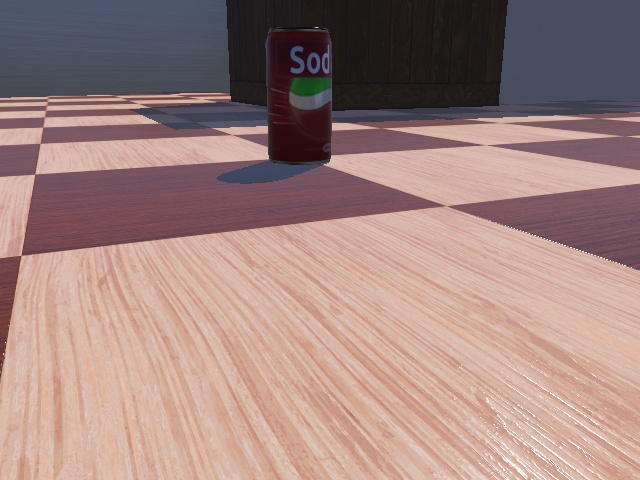lon_nuoc: (265, 26, 335, 164)
